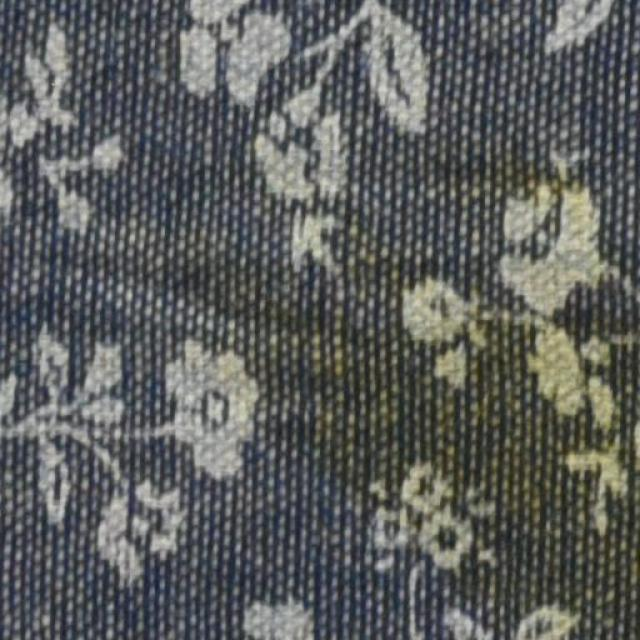Stain: (174, 141, 639, 627)
